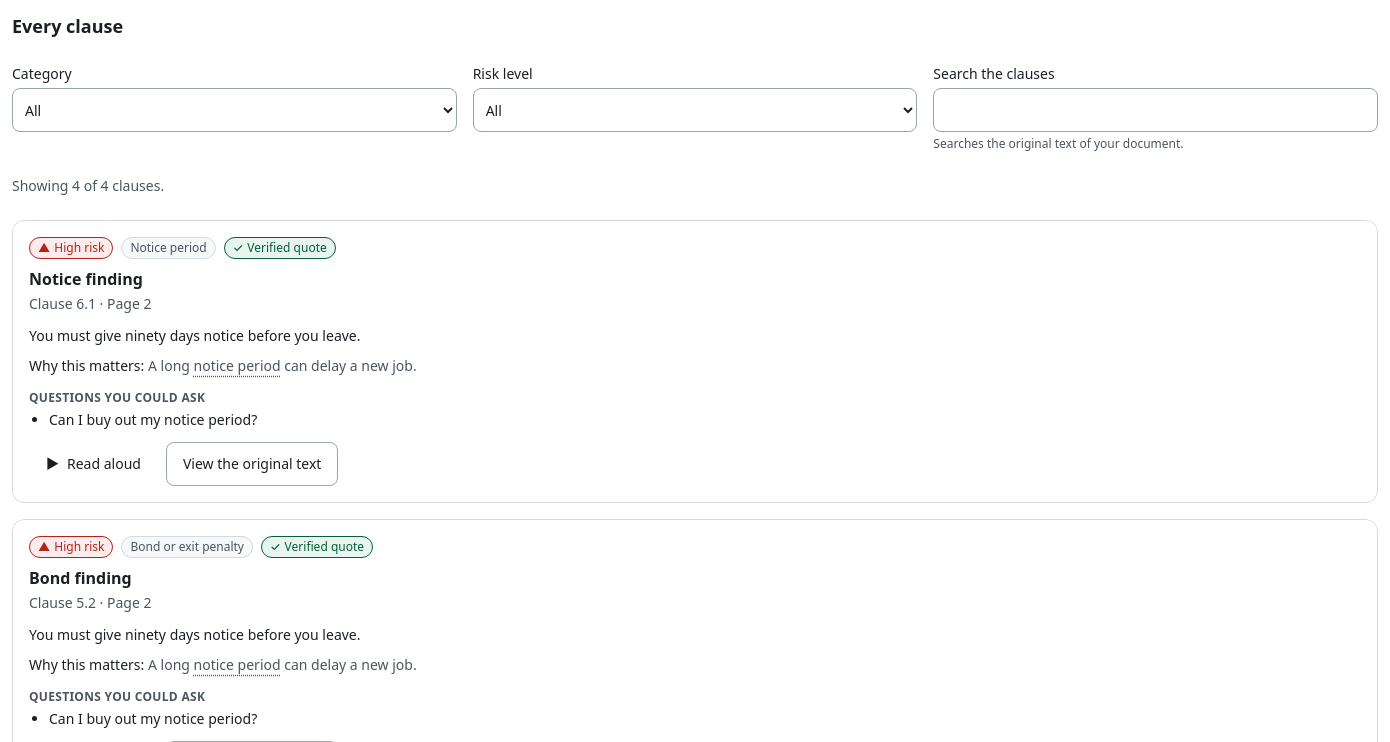
Scenario: ClauseList › with clauses that have no findings › finds a clause without findings by searching its text
Step 1. Type "receipts" into the search field labelled "Search the clauses" → (1156, 110), box [933,88,1378,132]
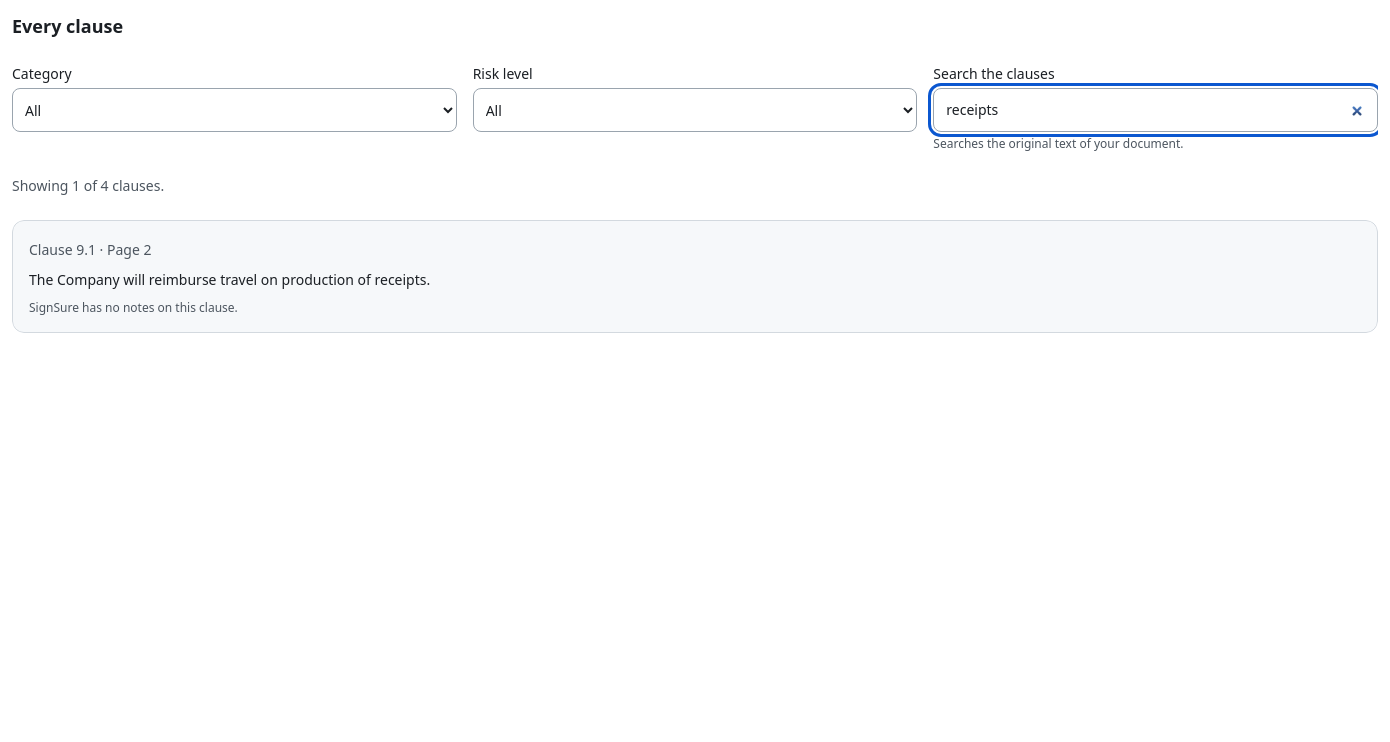
Expected: the text "The Company will reimburse travel on production of receipts." is shown, [29,270,430,289]
Result: the text "Showing 1 of 4 clauses." is shown at [12,176,164,195]
